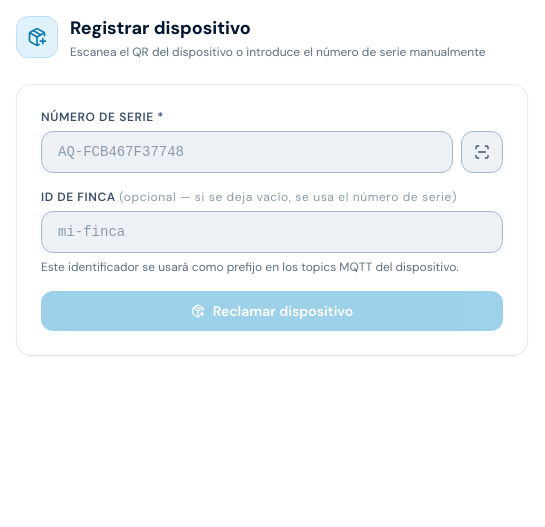
ClaimDeviceView › shows success state after successful claim
Type "sn-001" into the field with placeholder "AQ-FCB467F37748". click: {"x": 247, "y": 152}
box: [41,131,453,173]
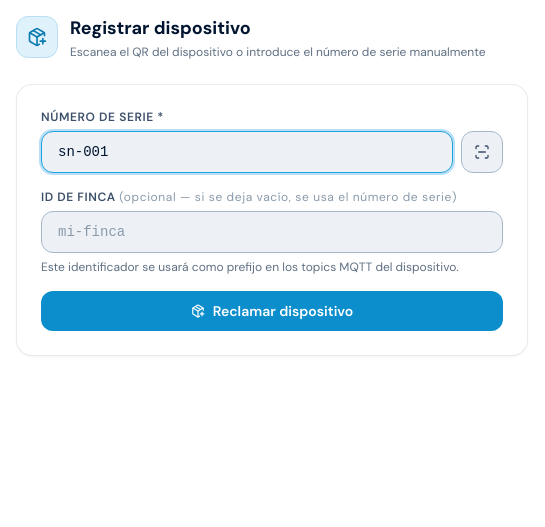
Click the button "Reclamar dispositivo". click: {"x": 272, "y": 311}
box: [41,291,503,331]
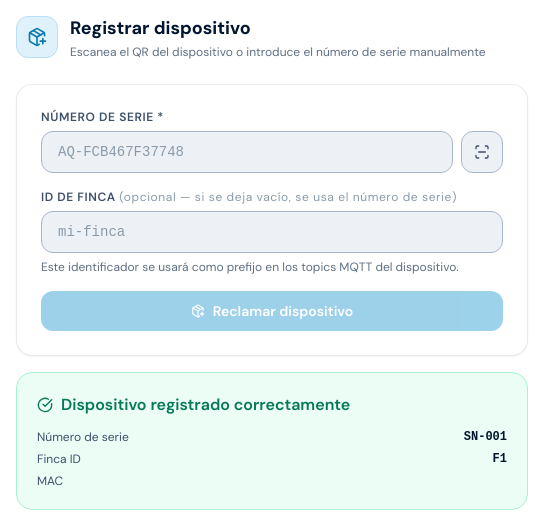
Check: the text "Dispositivo registrado correctamente" is shown, box [37,394,350,415]
